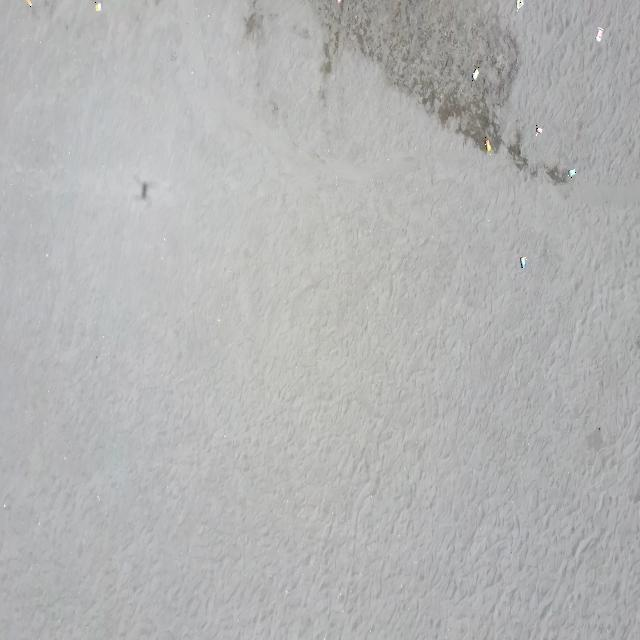retort-pouch: (596, 24, 604, 42), (484, 136, 491, 155), (472, 66, 479, 82), (520, 255, 527, 270), (568, 167, 576, 179), (536, 124, 542, 137), (517, 0, 524, 11), (95, 2, 102, 12), (26, 0, 32, 7), (336, 0, 341, 6)
